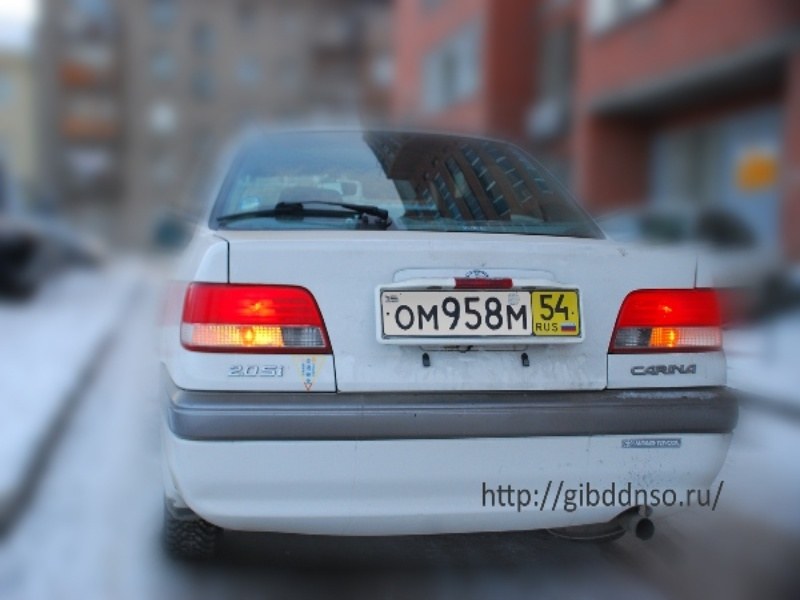car: (159, 128, 737, 562)
plate: (381, 289, 579, 335)
